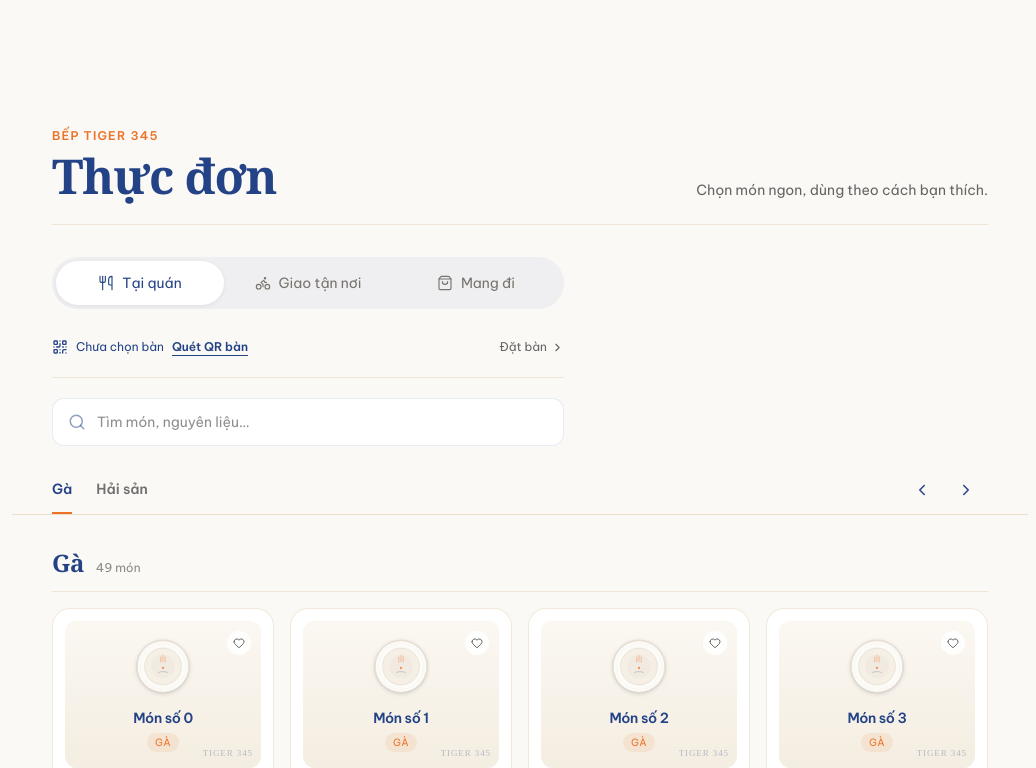
Test: MenuPage category navigation › opens a 98-dish menu with eight cards and still supports distant categories and search
Click the button "Hải sản" at (122, 490), box [96, 466, 148, 514]
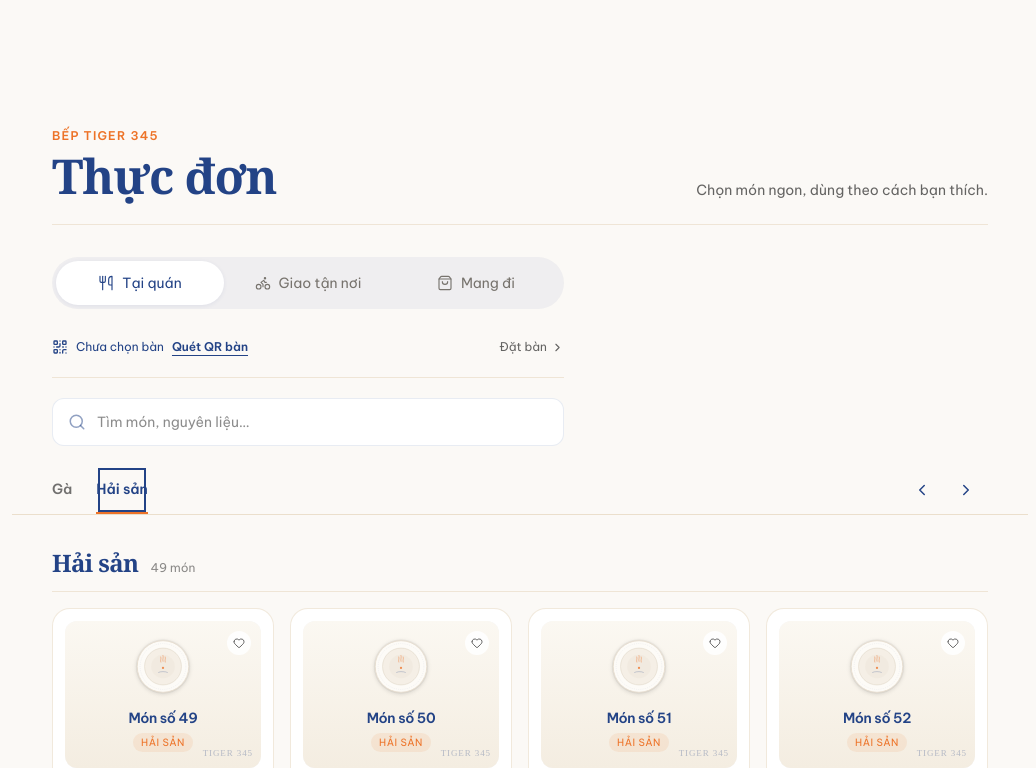
Type "Món số 97" into the search field labelled "Tìm món" at (308, 422), box [52, 398, 564, 446]
(page scrolled)
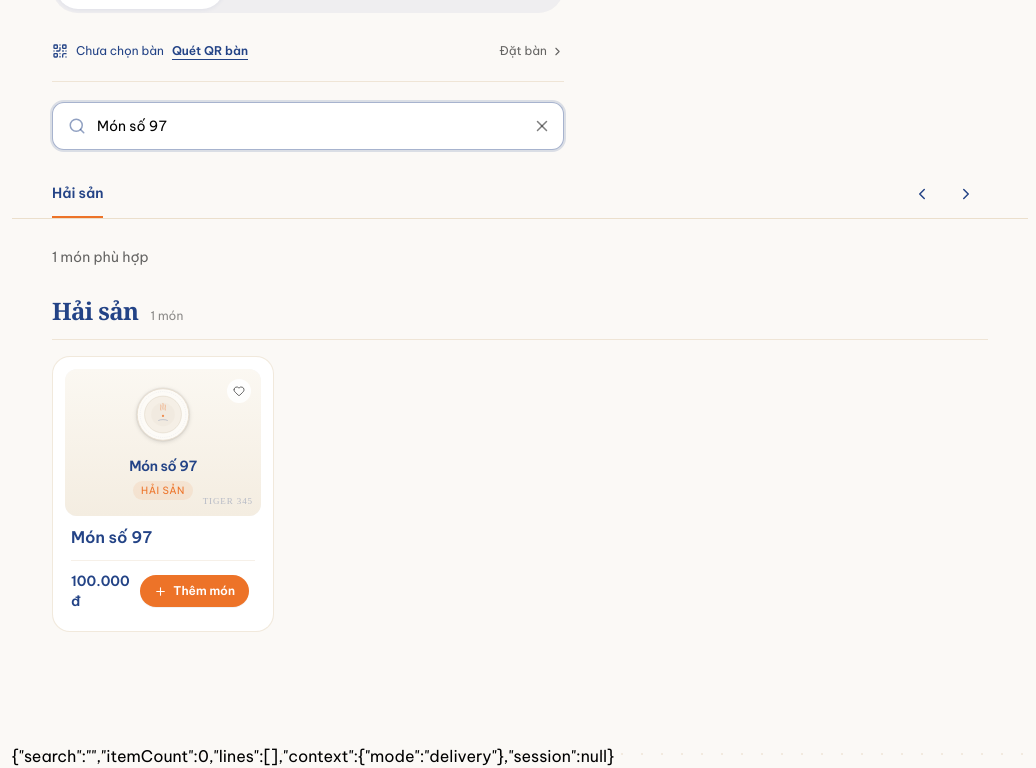
Now the heading "Món số 97" is shown, box [71, 526, 152, 548]
